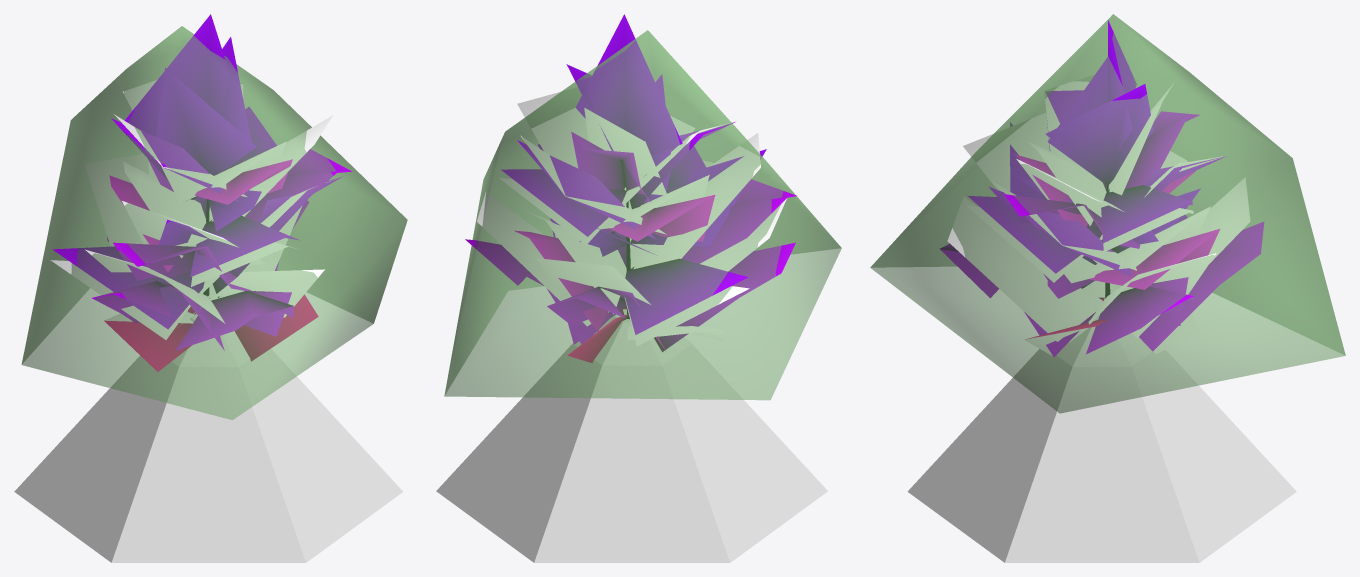
The model's file is tree_douglasfir_bush_a.dae.
3 views of the same model, side by side, from view 1: azimuth 30°, elevation 25°; view 2: azimuth 150°, elevation 25°; view 3: azimuth 270°, elevation 25° (orthographic).
Parts seen in each view (by area): view 1: Colmesh_bush_a-1, tree_douglasfir_bush_a_a150, tree_douglasfir_bush_a_a100; view 2: Colmesh_bush_a-1, tree_douglasfir_bush_a_a150, tree_douglasfir_bush_a_a100; view 3: Colmesh_bush_a-1, tree_douglasfir_bush_a_a150, tree_douglasfir_bush_a_a100.
Part boxes in pixels (x1,y1,x2,y2): Colmesh_bush_a-1: (14, 26, 407, 562); tree_douglasfir_bush_a_a150: (52, 14, 351, 371); tree_douglasfir_bush_a_a100: (50, 72, 334, 339); Colmesh_bush_a-1: (436, 30, 841, 562); tree_douglasfir_bush_a_a150: (465, 14, 796, 362); tree_douglasfir_bush_a_a100: (477, 74, 786, 345); Colmesh_bush_a-1: (870, 14, 1345, 562); tree_douglasfir_bush_a_a150: (940, 20, 1264, 356); tree_douglasfir_bush_a_a100: (947, 57, 1250, 355).
Bounding box in the file's own units: 2.53 × 3.11 × 3.42.
